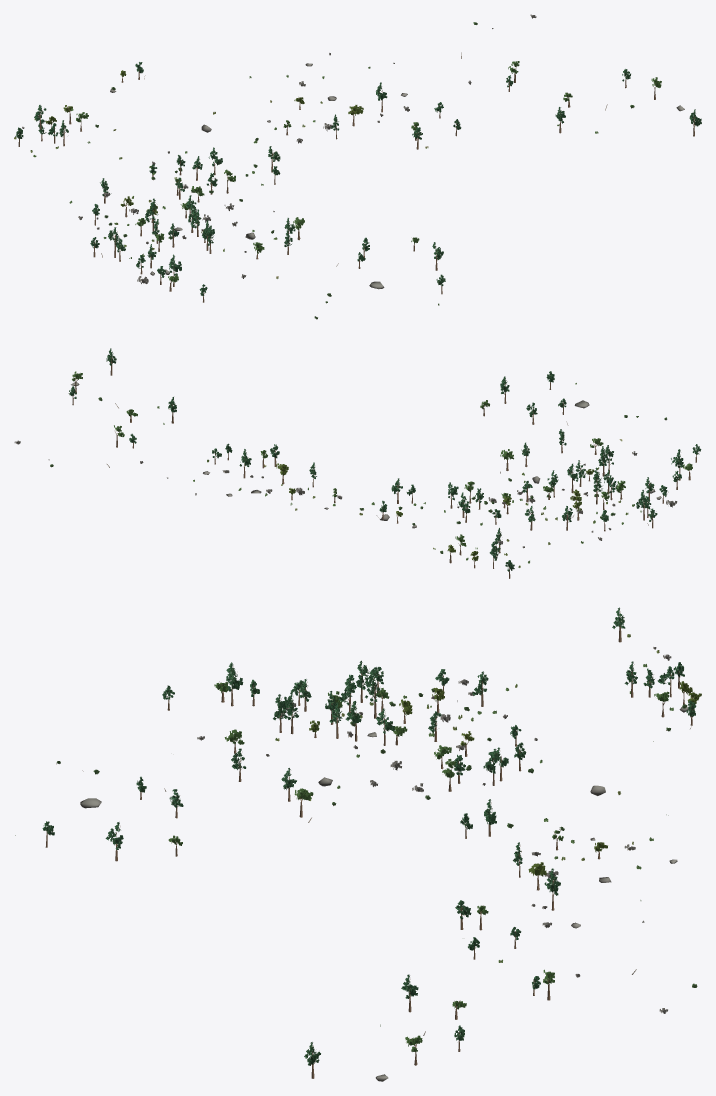
File: arch_land_scatter_c20_20.glb
The picture shows the model from 3 angles, top to bottom: view 1: azimuth 30°, elevation 25°; view 2: azimuth 150°, elevation 25°; view 3: azimuth 270°, elevation 25°; orthographic projection. The views are drawn at different scales.
Parts seen in each view (by area): view 1: arch_land_scatter_c20_20; view 2: arch_land_scatter_c20_20; view 3: arch_land_scatter_c20_20.
Part boxes in pixels (box(x1,y1,x2,y2)): arch_land_scatter_c20_20: box(14, 14, 701, 319); arch_land_scatter_c20_20: box(14, 348, 701, 578); arch_land_scatter_c20_20: box(15, 607, 701, 1081).
Size of the model in its own units: 252 by 36.19 by 186.
